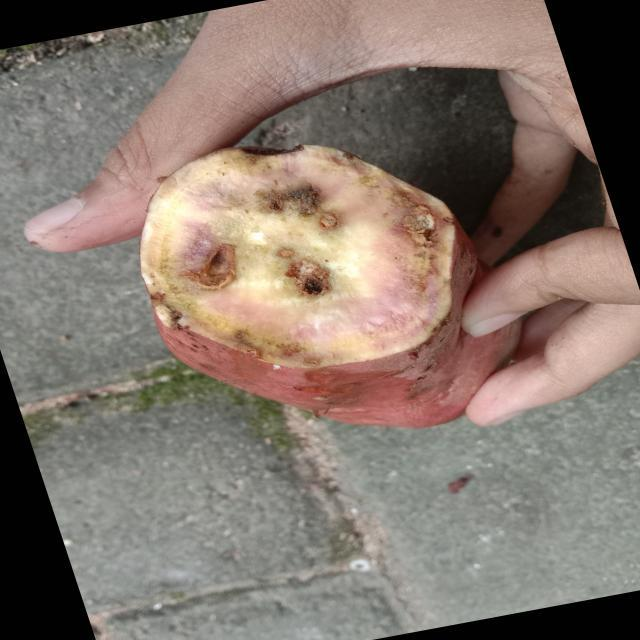Sick Sweet Potato_Tuber Rot: (140, 145, 475, 368)
